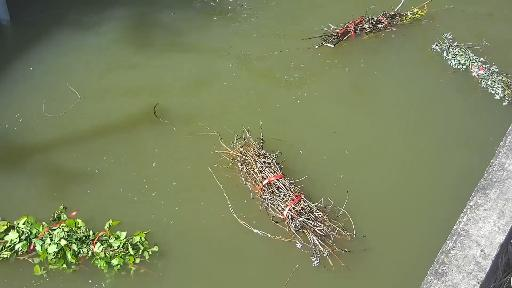twig: (164, 112, 347, 258), (0, 223, 179, 276), (317, 0, 477, 50), (424, 22, 493, 101)
